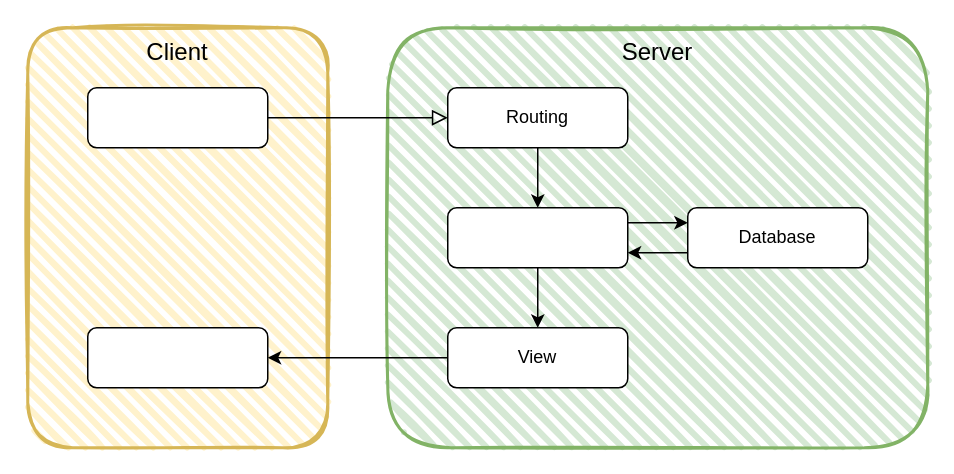
The diagram is 954 pixels wide and 474 high, and some of its shapes have lost their labels. Here are the shapes that lost their labels. From the top down, the centre of each, then its label:
the point at 177,117: Client first load (UI feedback)
the point at 537,237: Controller
the point at 177,357: HTML render + JS loads
